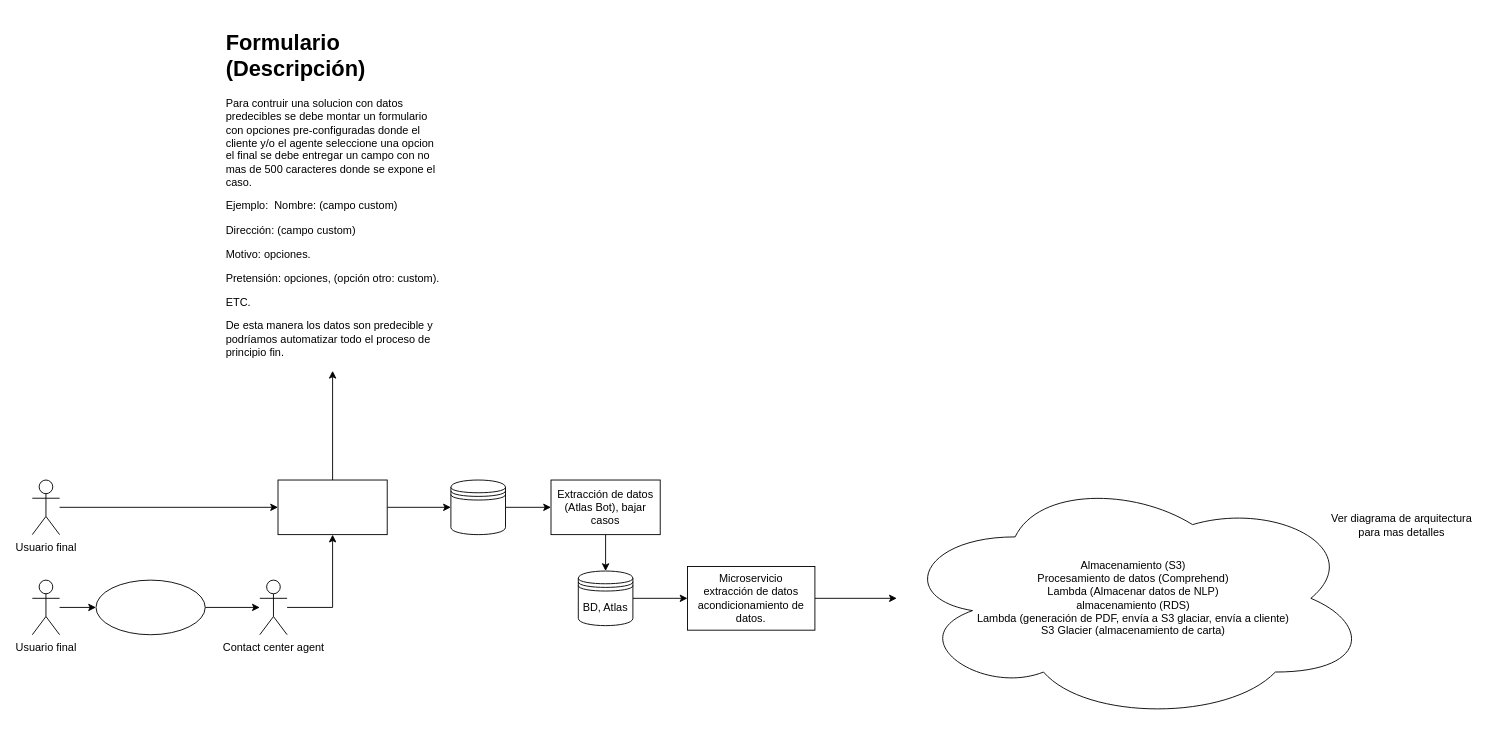
Some shapes in this 1495 by 737 pixel diagram are drawn without their labels. Here are the shapes that lost their labels. From the top down, the box of each, then its label:
(277, 479, 387, 535): Web UI Formulario PQR
(450, 479, 506, 535): BD
(95, 579, 205, 635): Linea de atención
